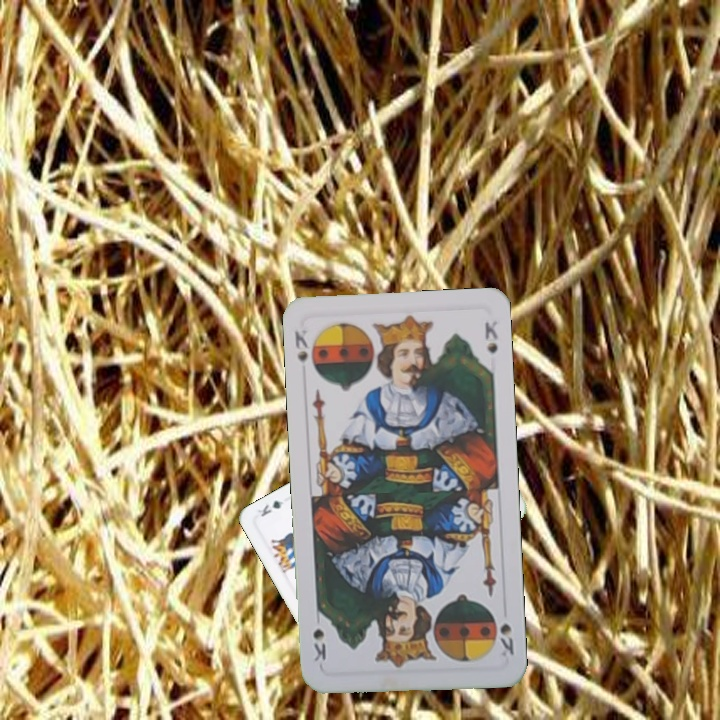SK: (291, 326, 319, 377), (496, 619, 516, 660)
